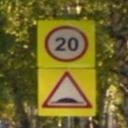speed_limit_20: (42, 24, 89, 64)
